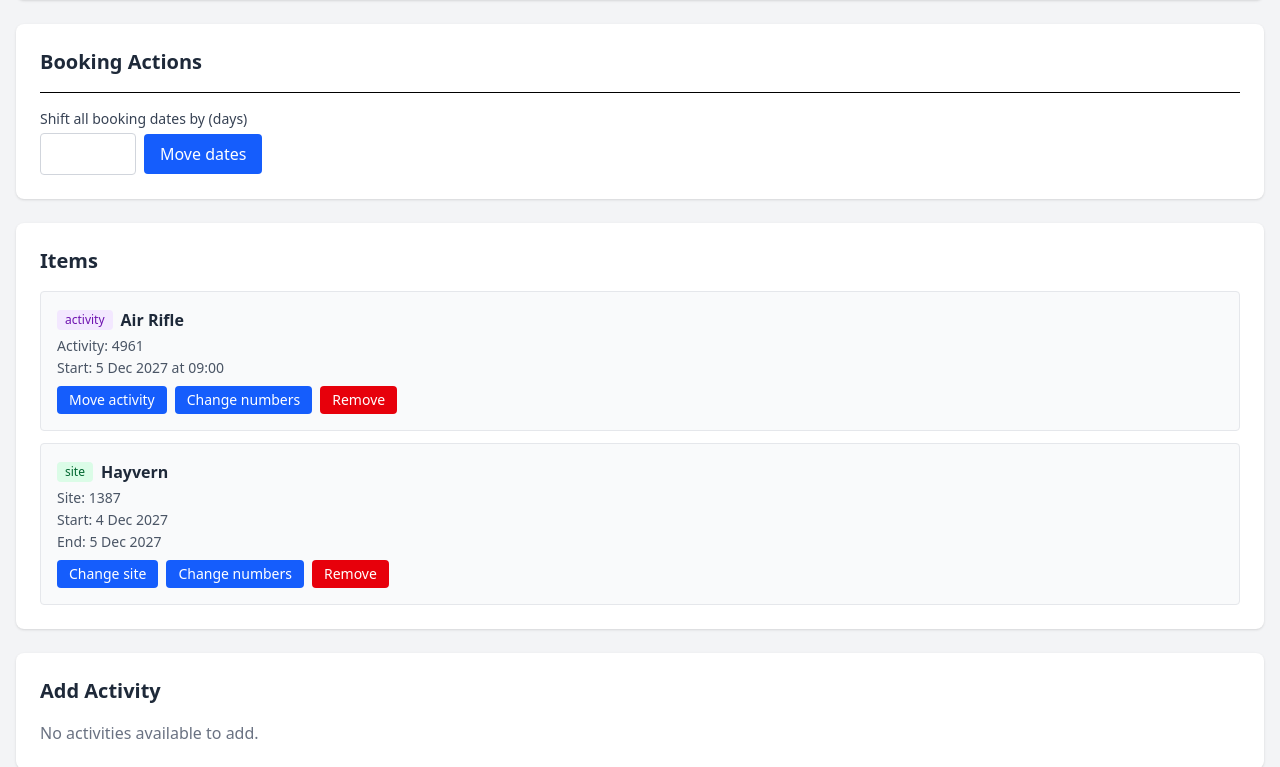
Test: change-numbers action › submits a new headcount for an item after confirmation and shows a success banner
(page scrolled)
Click the button "Change numbers" below "at 09:00".
click(243, 400)  # box top-left (175, 386), bottom-right (312, 414)
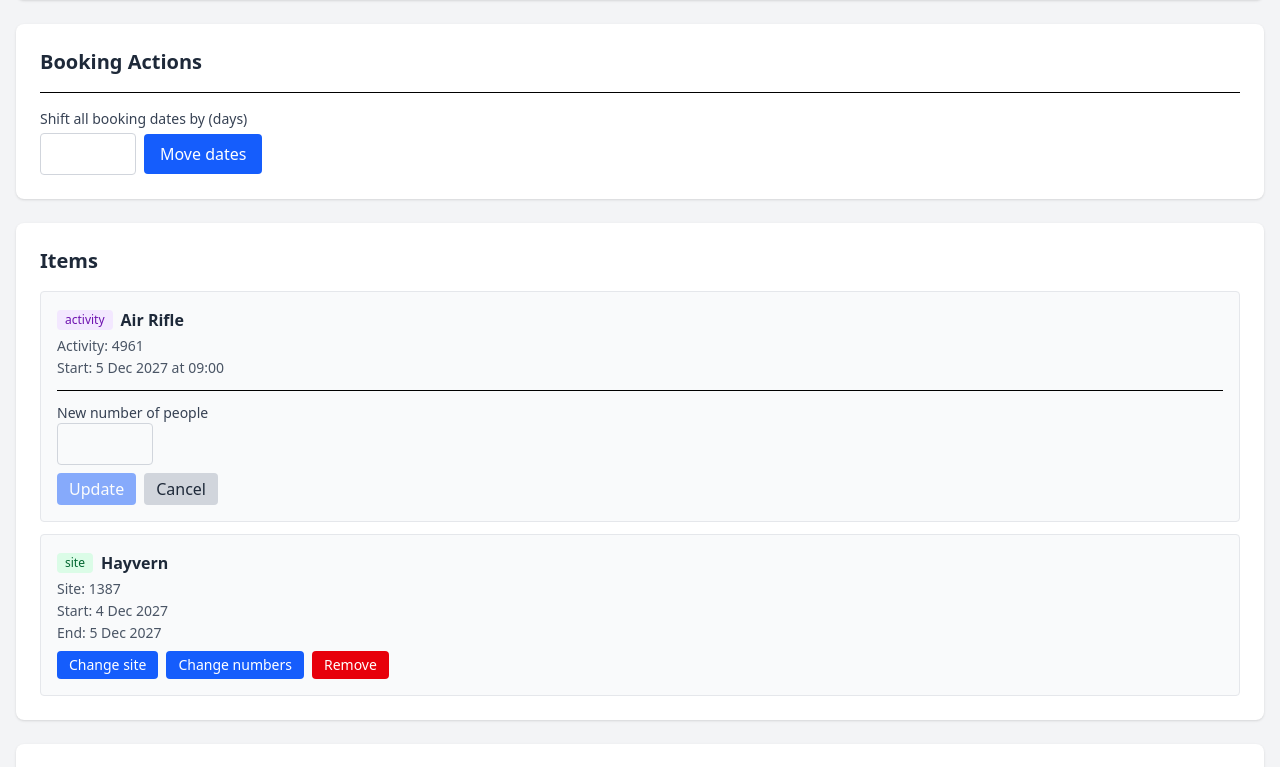
Type "10" into the number field labelled "New number of people".
click(105, 444); type("10")  # box top-left (57, 423), bottom-right (153, 465)
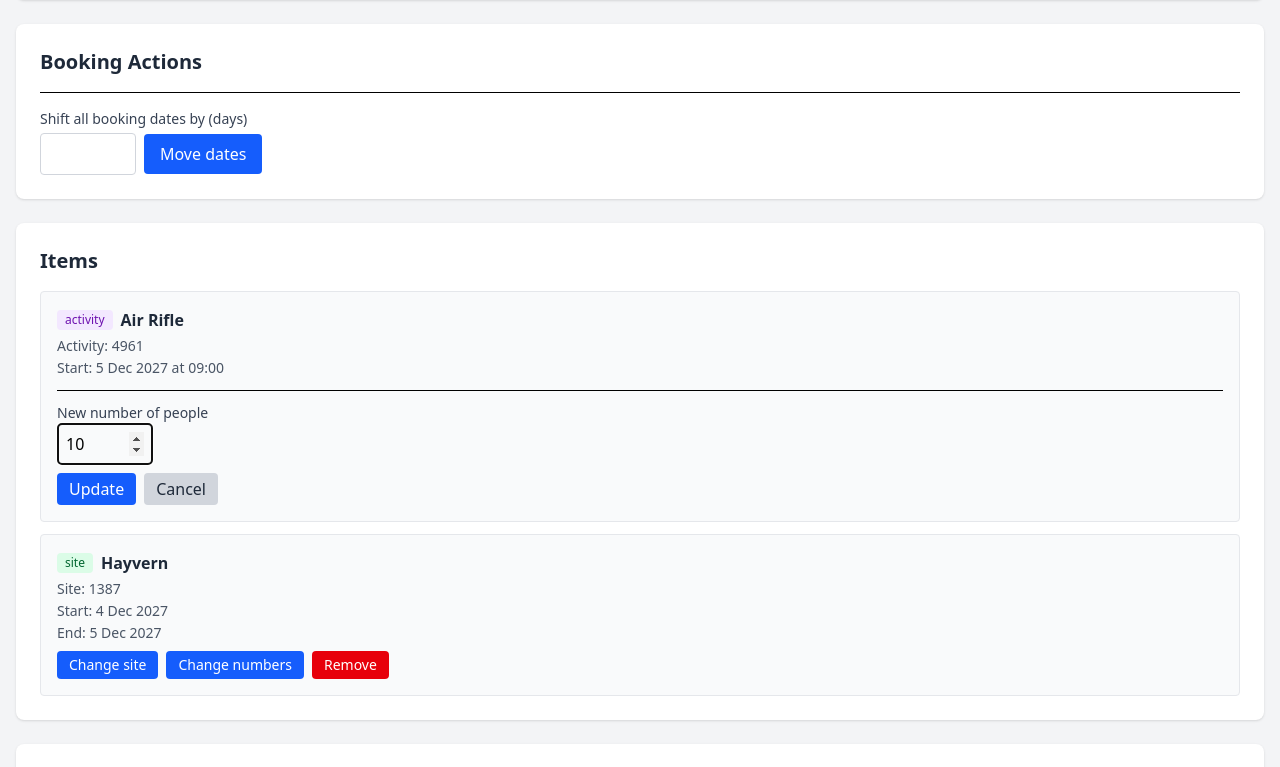
Click the button "Update".
click(97, 489)  # box top-left (57, 473), bottom-right (136, 505)
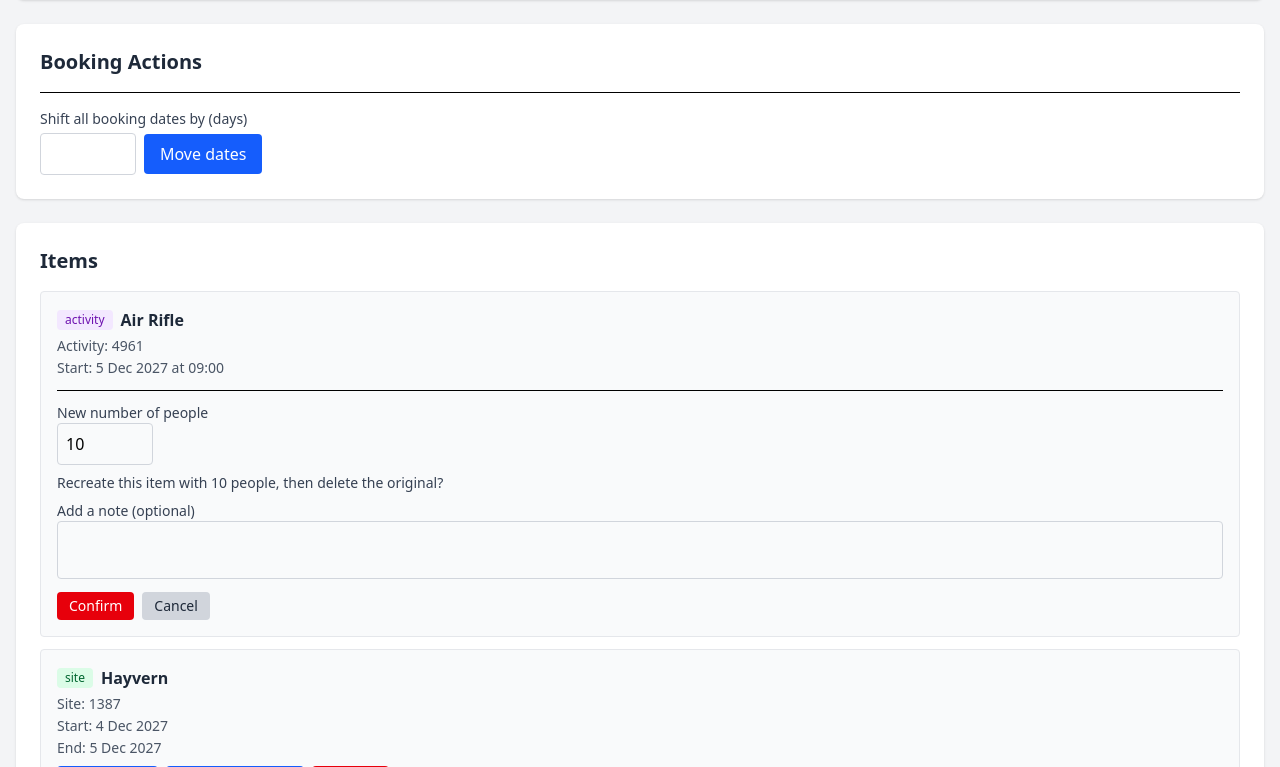
Click the button "Confirm".
click(96, 606)  # box top-left (57, 592), bottom-right (134, 620)
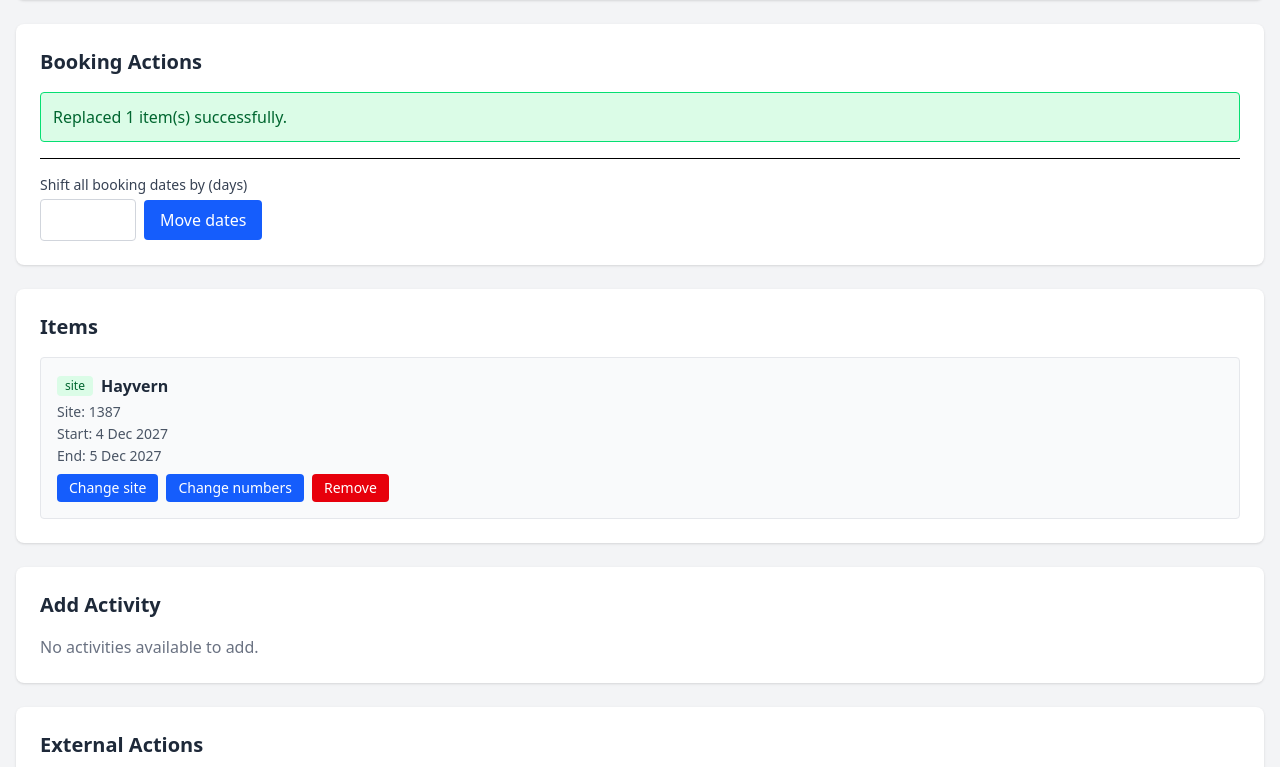
Now the message shows "Replaced 1 item", box top-left (53, 106), bottom-right (287, 128)
